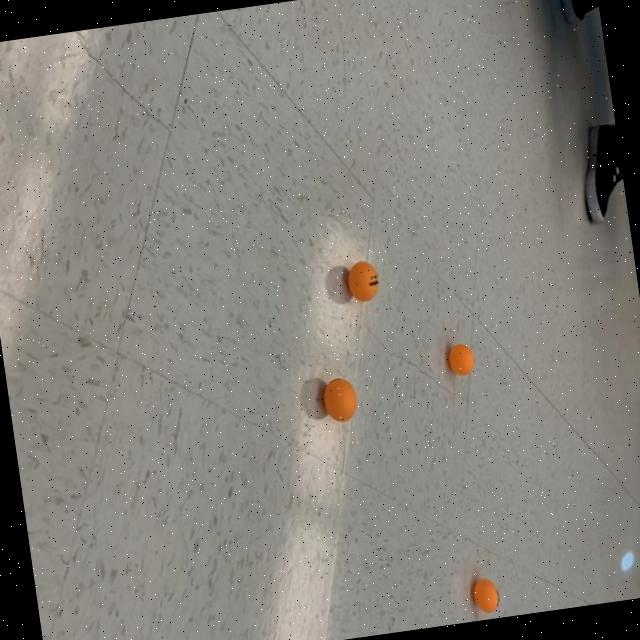ping-pong-ball: (314, 369, 366, 431), (341, 254, 386, 310), (441, 337, 484, 381), (466, 571, 504, 619)
